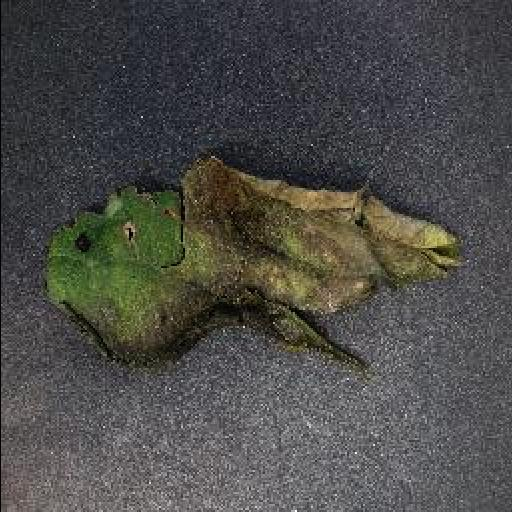disease_tomato: (37, 156, 463, 374)
